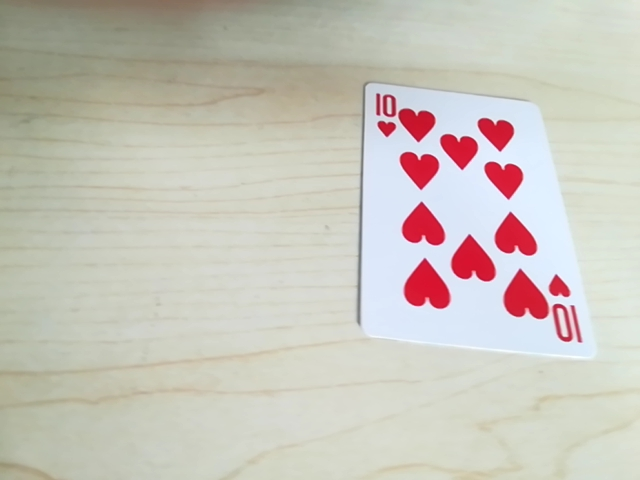hx 10: (547, 282, 583, 352), (370, 88, 413, 142)
